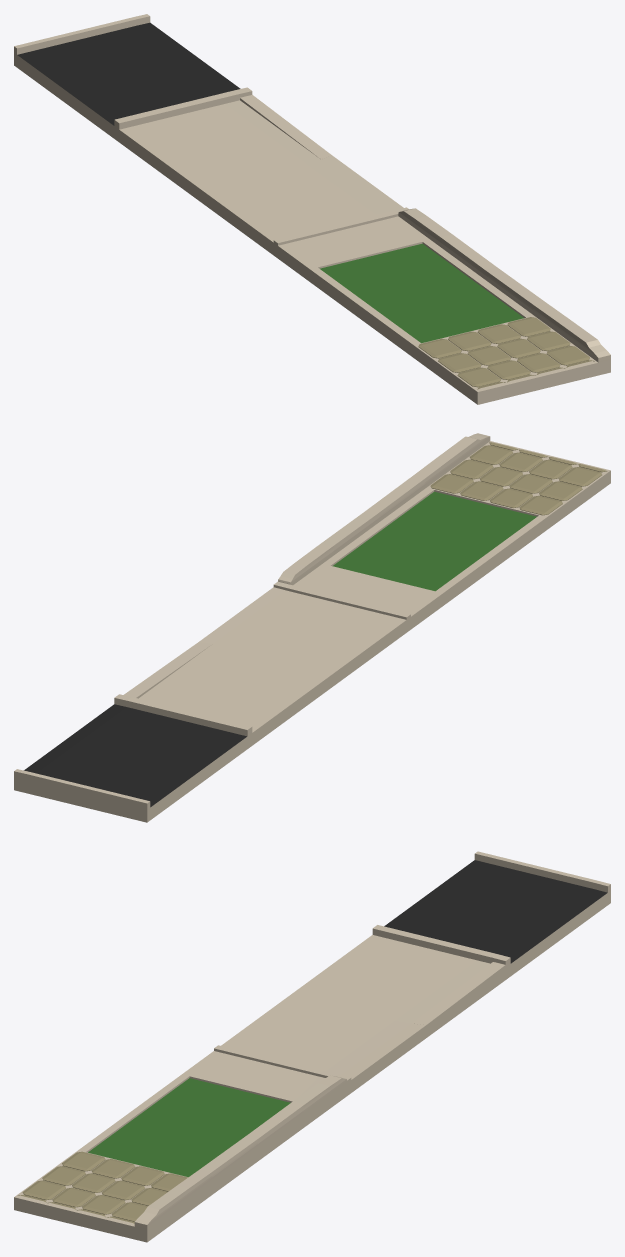
File: floor.fbx
The picture shows the model from 3 angles, top to bottom: view 1: azimuth 30°, elevation 25°; view 2: azimuth 150°, elevation 25°; view 3: azimuth 330°, elevation 25°; orthographic projection.
Visible parts, largest first — view 1: Куб, Cube; view 2: Куб, Cube; view 3: Куб, Cube.
Part boxes in pixels (<box>): Куб: <box>14,14,610,404</box>; Cube: <box>418,317,594,389</box>; Куб: <box>14,433,610,822</box>; Cube: <box>430,442,607,515</box>; Куб: <box>14,851,610,1242</box>; Cube: <box>18,1151,187,1223</box>.
Size of the model in its own units: 2169 by 367 by 13080.
